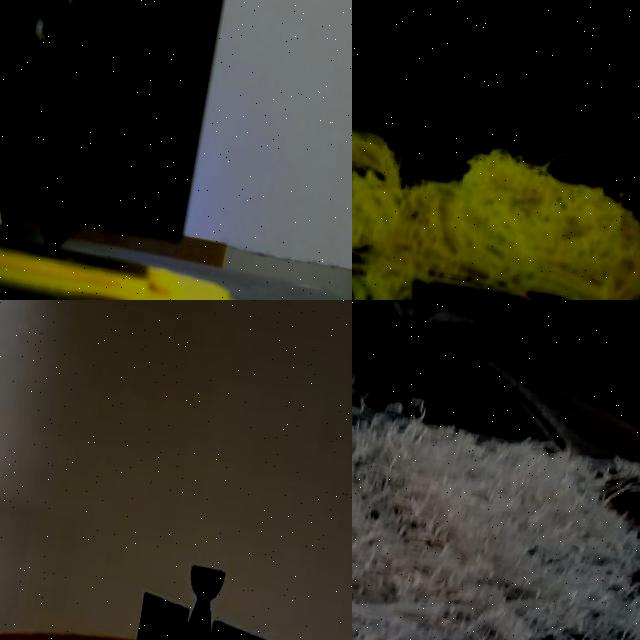spaghetti: (352, 382, 640, 640), (352, 125, 640, 300)
